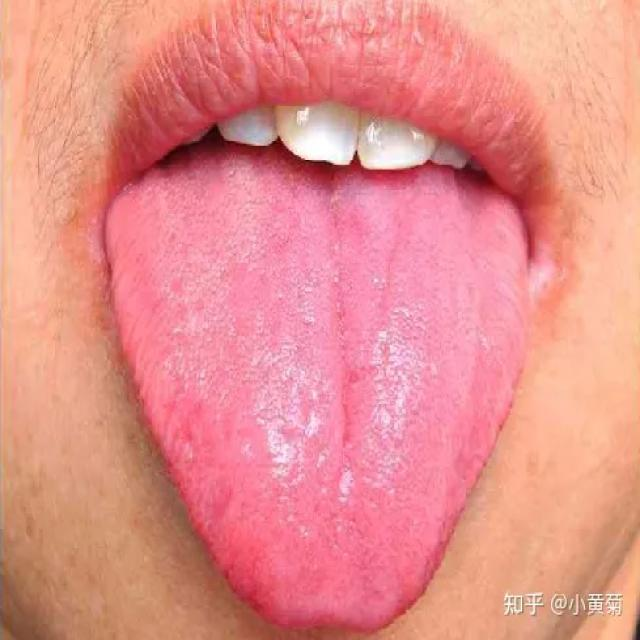tongue: (93, 167, 541, 636)
